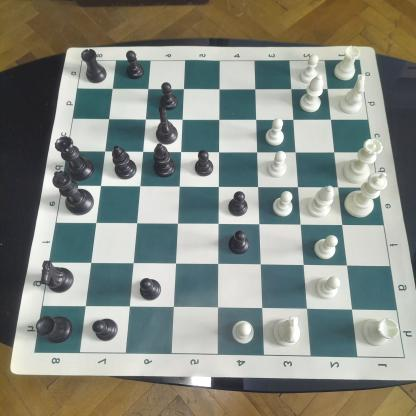black-bishop: (109, 143, 138, 180), (150, 142, 176, 178)
black-king: (50, 168, 96, 216)
black-knight: (39, 257, 76, 295), (153, 110, 179, 146)
black-pawn: (90, 316, 120, 343), (123, 48, 146, 80), (158, 80, 179, 112), (227, 189, 250, 218), (193, 148, 214, 178), (227, 229, 250, 256), (138, 276, 162, 301)
black-queen: (53, 134, 96, 183)
black-rook: (32, 312, 74, 346), (79, 48, 109, 85)
white-bishop: (305, 183, 336, 219), (298, 73, 325, 114)
white-king: (342, 169, 392, 219)
white-knight: (336, 73, 366, 115), (271, 315, 301, 348)
white-pawn: (298, 53, 323, 85), (312, 233, 339, 261), (313, 274, 341, 300), (264, 117, 286, 147), (266, 148, 288, 178), (231, 319, 256, 345), (271, 190, 294, 218)
white-queen: (340, 137, 385, 185)
white-rook: (361, 316, 401, 348), (331, 43, 363, 82)
